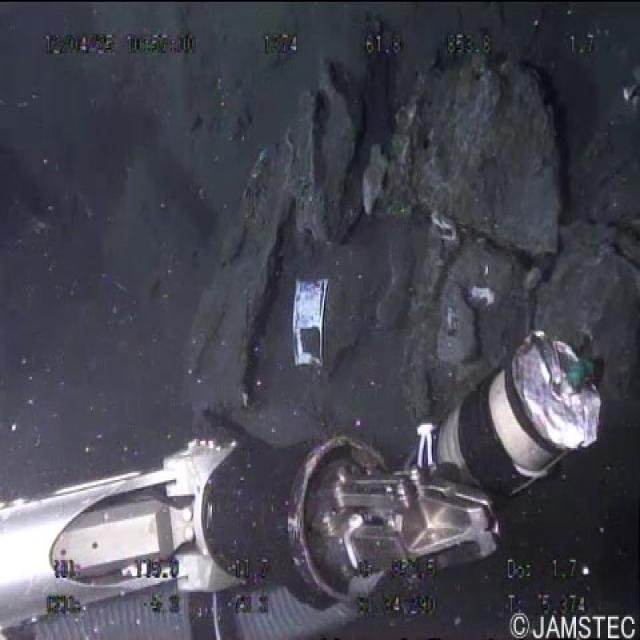plastic: (288, 268, 335, 381)
